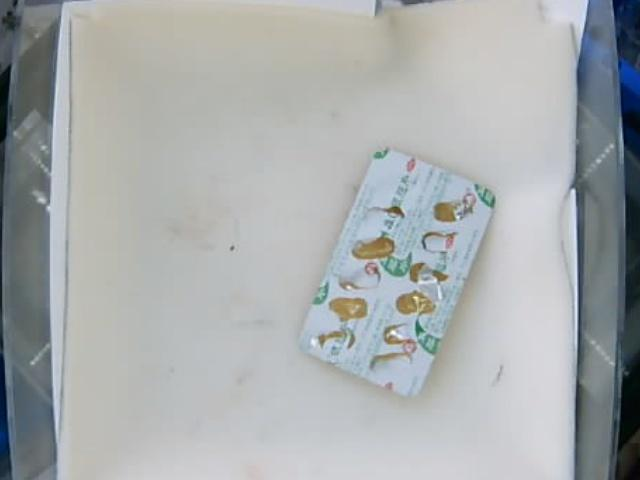Medicine: (303, 151, 496, 399)
